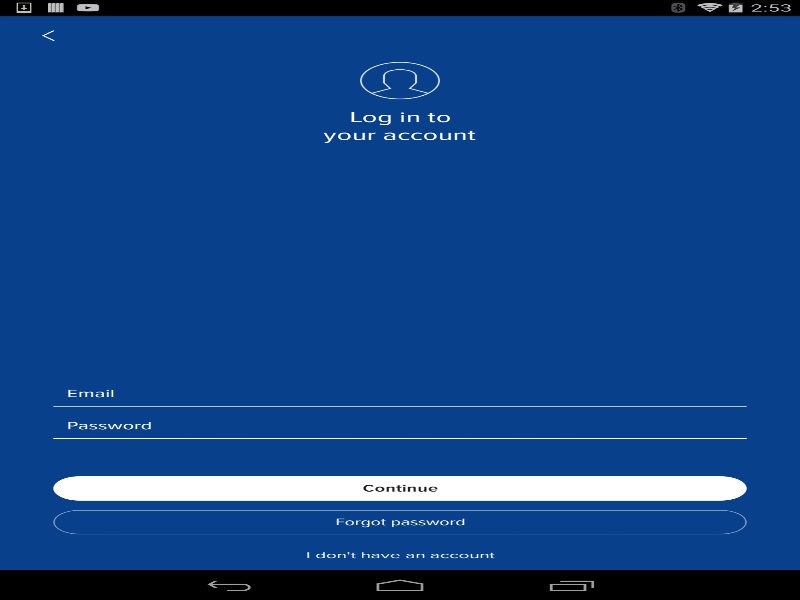Button: (10, 15, 85, 55)
Input: (53, 380, 746, 406), (53, 412, 746, 438)
